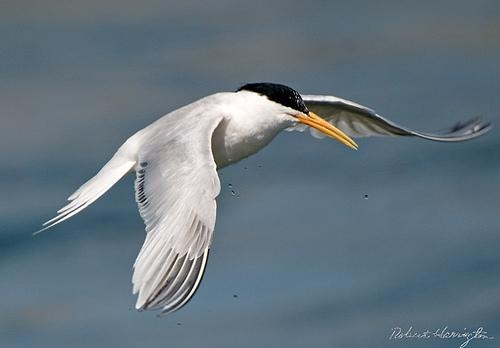bird: (29, 81, 493, 313)
